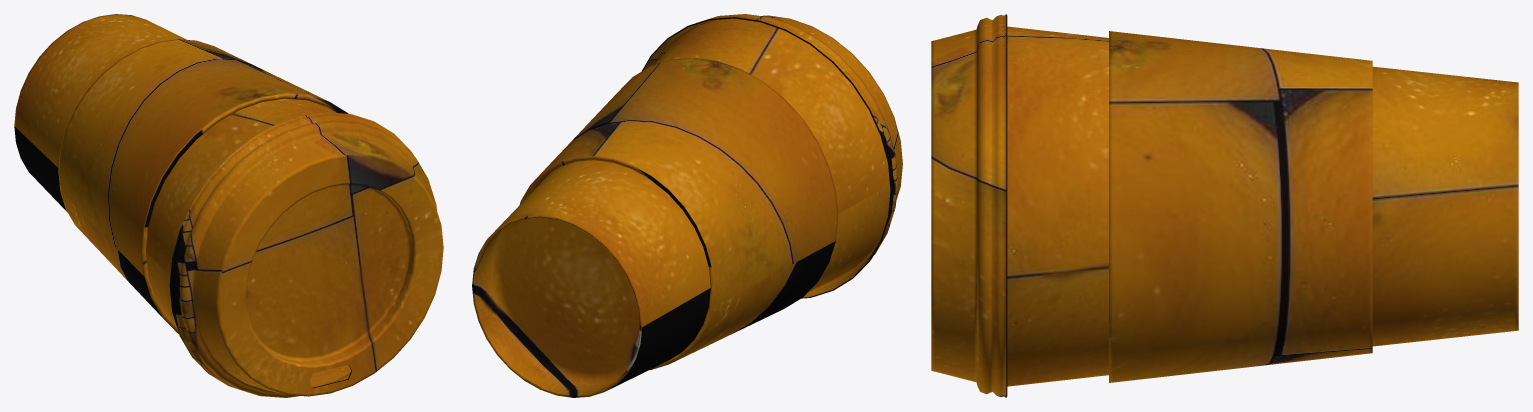
3 views of the same model, side by side, from view 1: azimuth 30°, elevation 25°; view 2: azimuth 150°, elevation 25°; view 3: azimuth 270°, elevation 25° (orthographic). The views are drawn at different scales.
Size of the model in its own units: 0.6541 by 0.6541 by 1.
